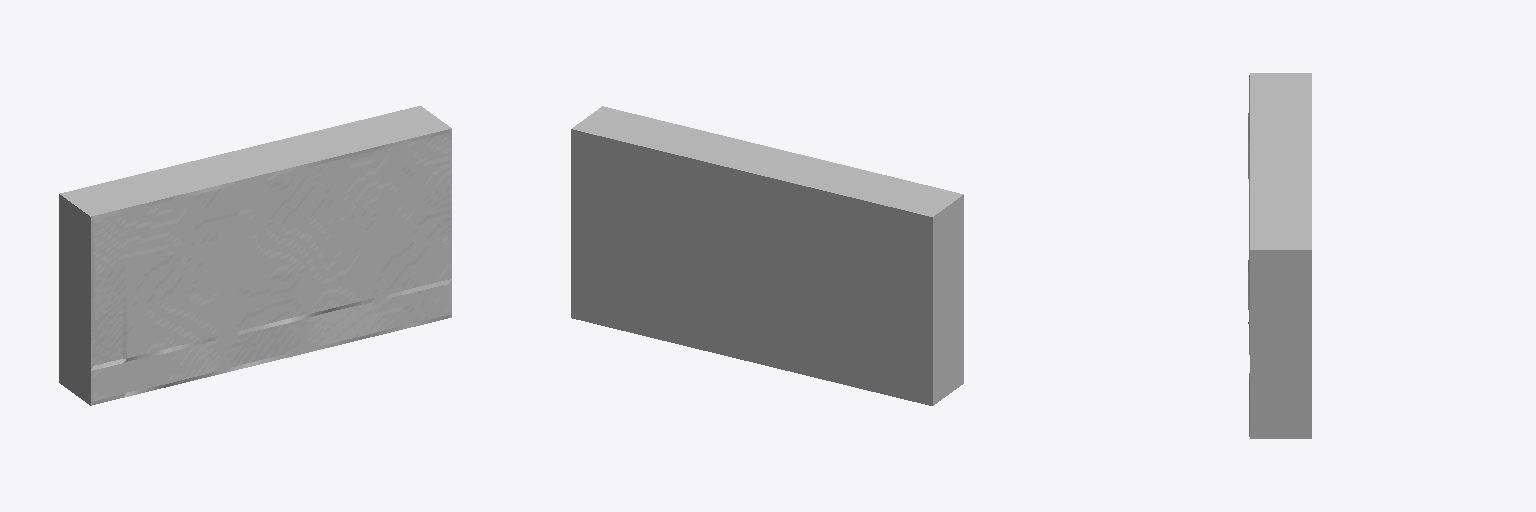
File: rectangular_prism_bumps_3_5.obj
The picture shows the model from 3 angles: view 1: azimuth 30°, elevation 25°; view 2: azimuth 150°, elevation 25°; view 3: azimuth 270°, elevation 25°; orthographic projection.
Bounding box in the file's own units: 10 × 5 × 1.54.